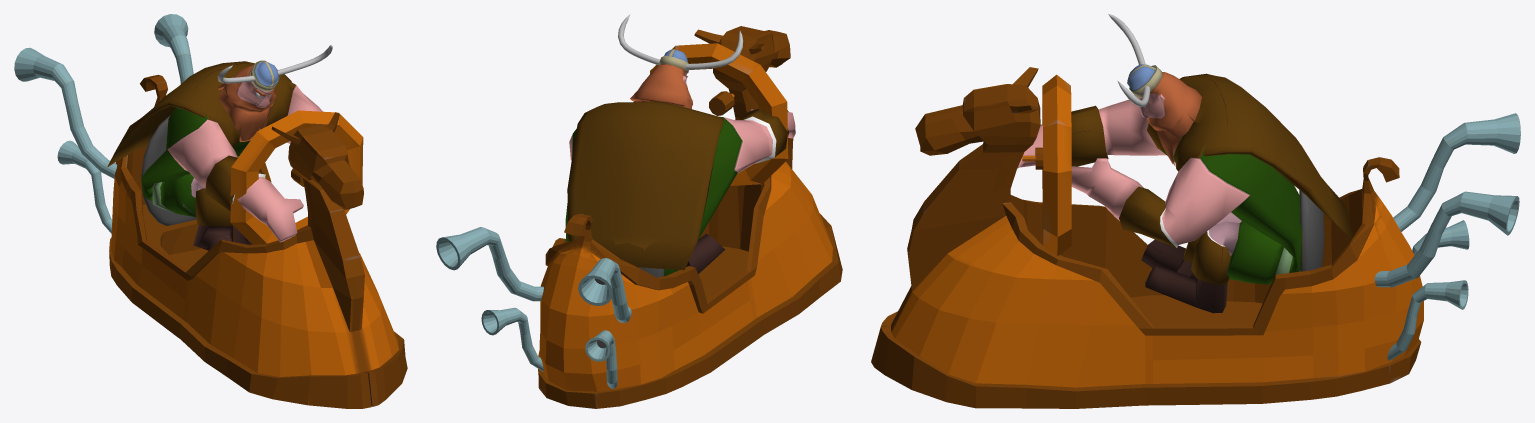
The model's file is vikingoLanzamiento_000526.obj.
The picture shows the model from 3 angles, left to right: view 1: azimuth 30°, elevation 25°; view 2: azimuth 150°, elevation 25°; view 3: azimuth 270°, elevation 25°; orthographic projection. The views are drawn at different scales.
Parts seen in each view (by area): view 1: kartVikingo, Vikingo; view 2: kartVikingo, Vikingo; view 3: kartVikingo, Vikingo.
Part boxes in pixels (box(x1,y1,x2,y2)): kartVikingo: box(14, 14, 407, 408); Vikingo: box(107, 45, 332, 250); kartVikingo: box(436, 26, 842, 408); Vikingo: box(565, 14, 795, 276); kartVikingo: box(871, 67, 1520, 408); Vikingo: box(1017, 14, 1353, 313).
Size of the model in its own units: 3.89 by 5.75 by 10.31.
